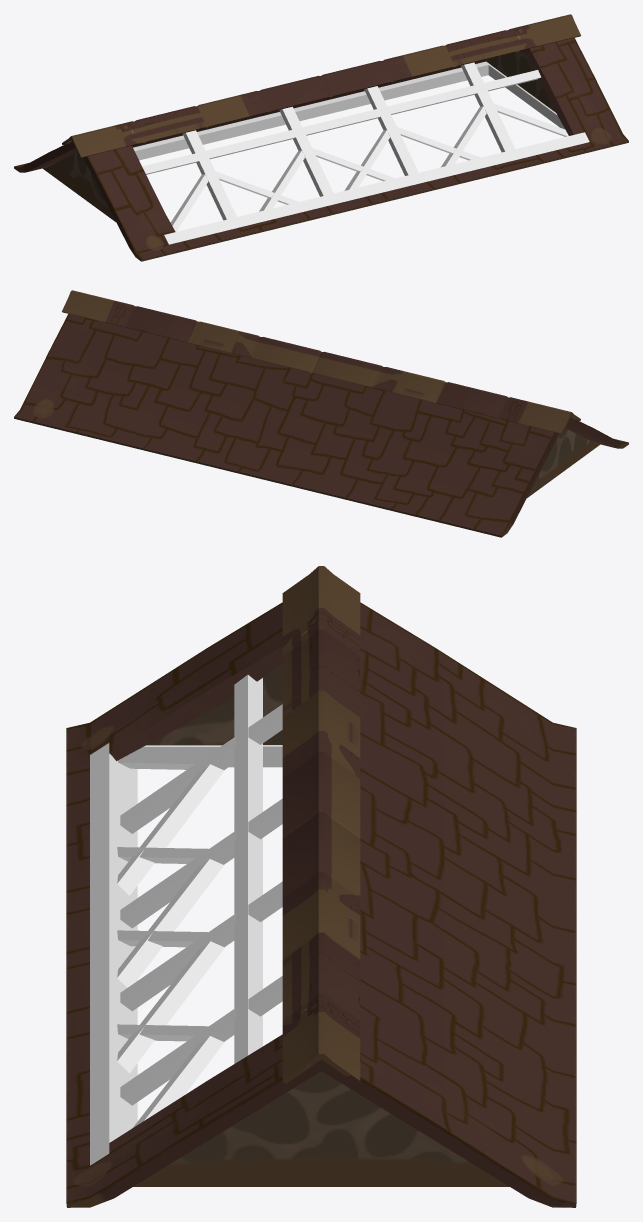
The model's file is Roof3.fbx.
3 views of the same model, one above another, from view 1: azimuth 30°, elevation 25°; view 2: azimuth 150°, elevation 25°; view 3: azimuth 270°, elevation 25° (orthographic). The views are drawn at different scales.
Visible parts, largest first — view 1: roof, rooftile, Angled_Beam, Angled_SmallBeam, FrontBeam, BackBeam, LargeBeam, SideBeams; view 2: roof, rooftile; view 3: roof, rooftile, Angled_SmallBeam, FrontBeam, Angled_Beam, LargeBeam, SideBeams.
Boxes of the visible parts, bbox=[...] form: roof: bbox=[14, 37, 628, 261]; rooftile: bbox=[62, 14, 580, 158]; Angled_Beam: bbox=[182, 62, 515, 220]; Angled_SmallBeam: bbox=[170, 103, 568, 231]; FrontBeam: bbox=[164, 132, 589, 244]; BackBeam: bbox=[133, 61, 489, 160]; LargeBeam: bbox=[142, 70, 541, 174]; SideBeams: bbox=[488, 64, 565, 129]; roof: bbox=[14, 313, 628, 537]; rooftile: bbox=[62, 290, 580, 434]; roof: bbox=[66, 602, 576, 1207]; rooftile: bbox=[282, 566, 360, 1083]; Angled_SmallBeam: bbox=[117, 753, 225, 1127]; FrontBeam: bbox=[90, 743, 137, 1165]; Angled_Beam: bbox=[120, 704, 282, 1105]; LargeBeam: bbox=[234, 674, 262, 1063]; SideBeams: bbox=[132, 745, 282, 767].
Bounding box in the file's own units: 4965 × 811 × 2193.
